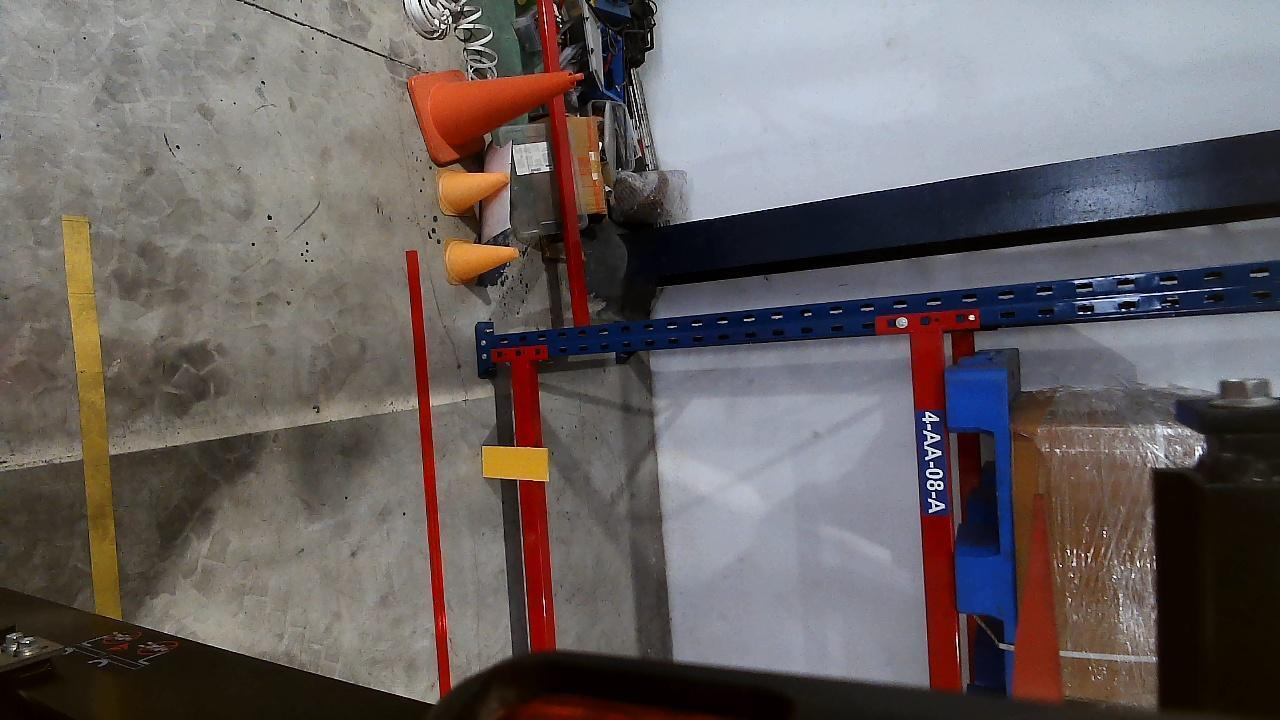red_line: (407, 250, 451, 685)
yellow_line: (60, 214, 118, 618)
